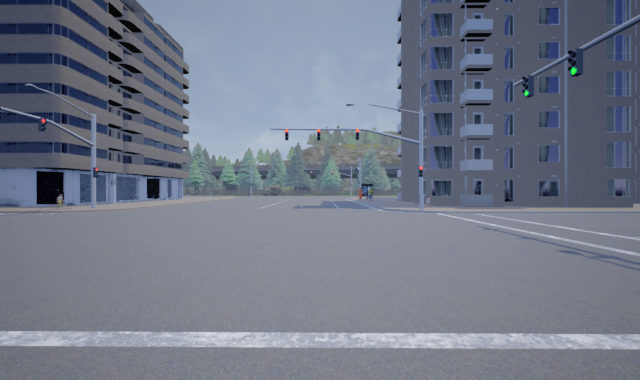pedestrian: (52, 192, 67, 209), (423, 195, 433, 210), (367, 186, 373, 202), (357, 187, 363, 201)
